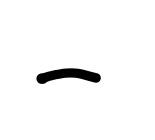minus: (37, 68, 100, 84)
